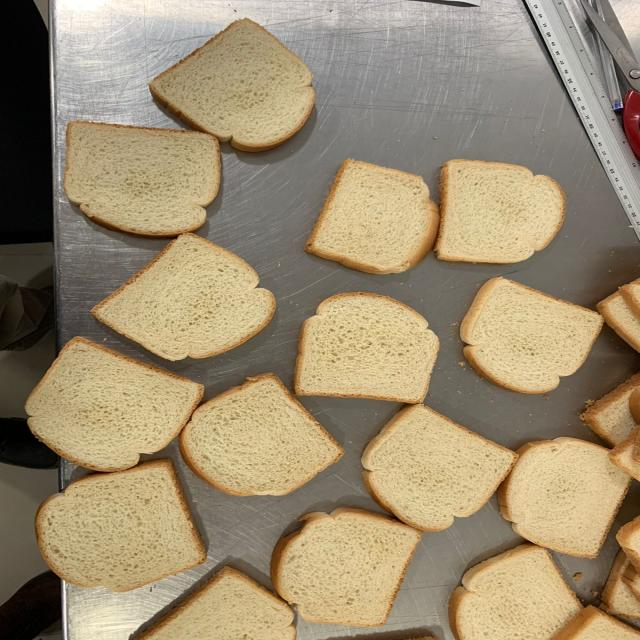pan: (24, 336, 205, 472), (91, 233, 276, 360), (34, 458, 207, 593), (149, 19, 316, 152), (177, 373, 345, 497), (361, 404, 519, 532), (64, 121, 222, 238), (271, 508, 423, 627), (460, 277, 604, 394), (496, 437, 634, 558), (293, 292, 441, 404), (305, 159, 441, 276), (435, 159, 567, 264)
